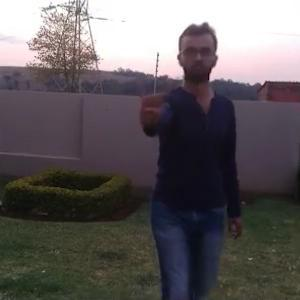takeoff-hand: (129, 80, 167, 127)
